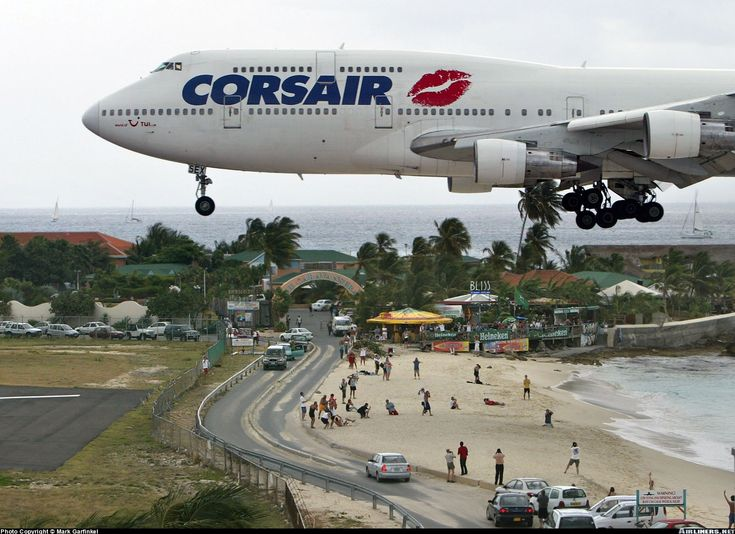Aeronef_commercial: (74, 33, 735, 233)
